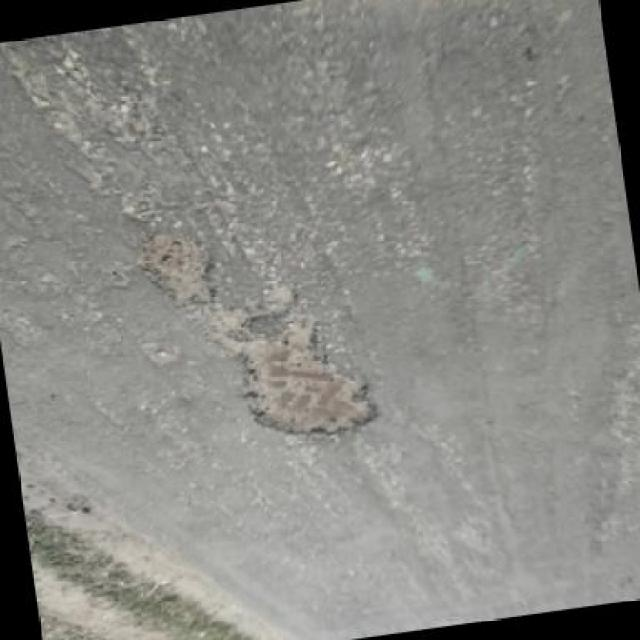pothole1: (228, 315, 381, 454), (127, 227, 218, 316)
